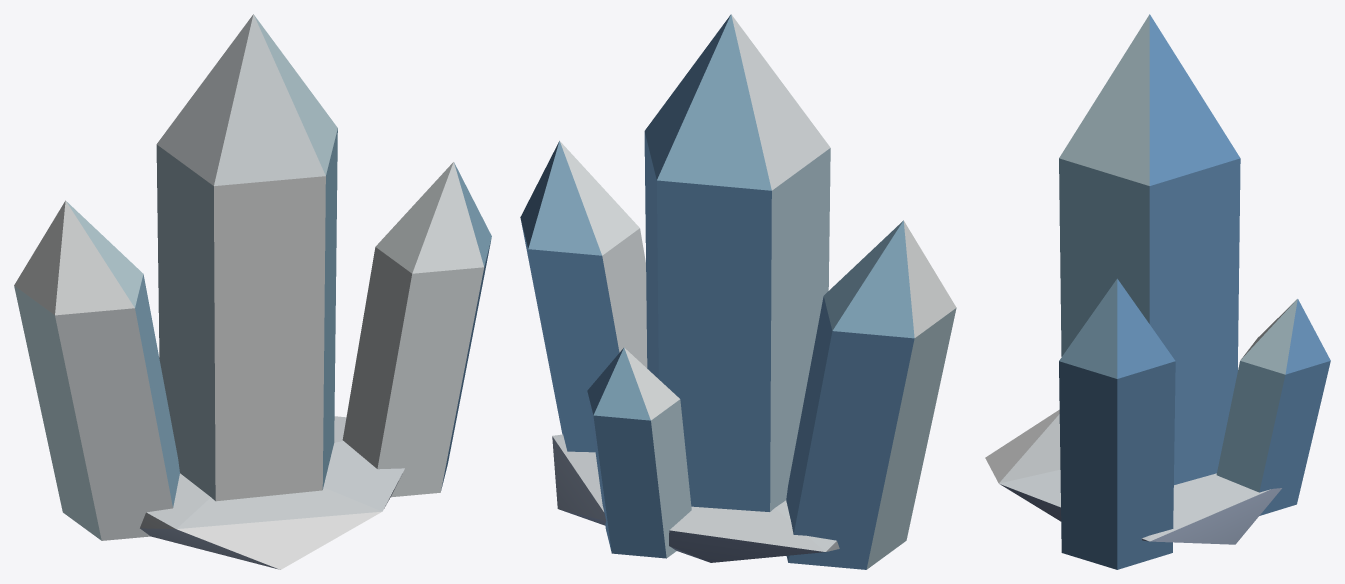
File: ice_spike.glb
3 renders of one model, left to right at view 1: azimuth 30°, elevation 25°; view 2: azimuth 150°, elevation 25°; view 3: azimuth 270°, elevation 25°, orthographic. The views are drawn at different scales.
Visible parts, largest first — view 1: ice_spike; view 2: ice_spike; view 3: ice_spike.
Part boxes in pixels (x1=…): ice_spike: x1=14, y1=14, x2=491, y2=569; ice_spike: x1=520, y1=14, x2=956, y2=569; ice_spike: x1=985, y1=14, x2=1330, y2=569.
Bounding box in the file's own units: 0.7506 × 0.8 × 0.5324.
